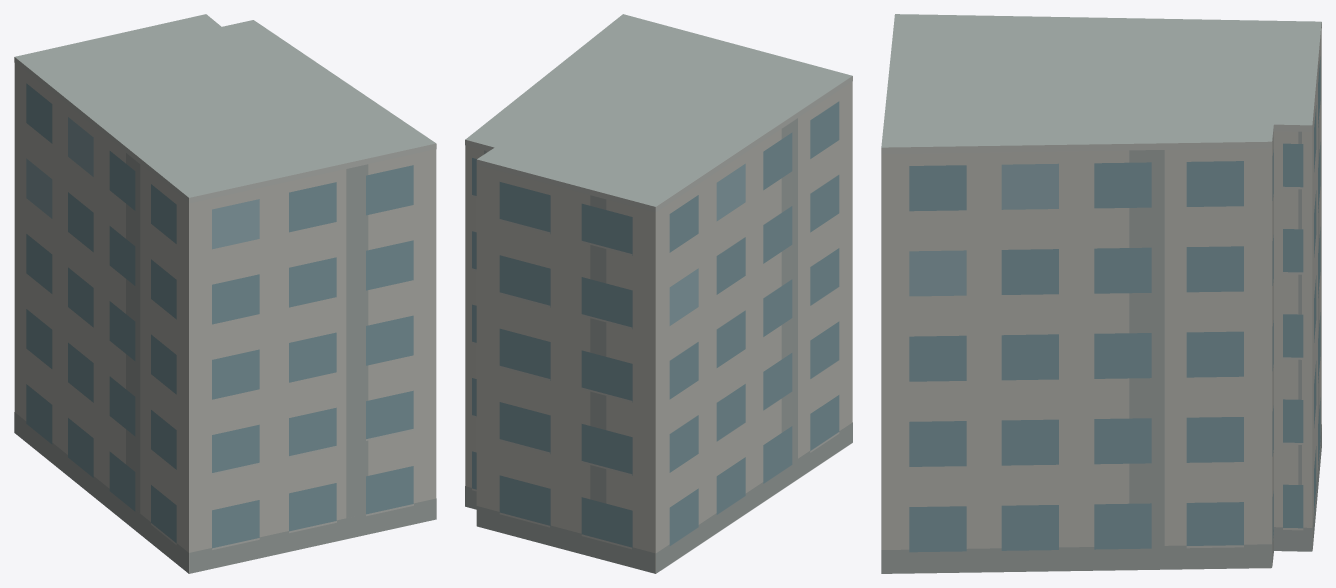
The model's file is survey-upis-32830152.glb.
3 views of the same model, side by side, from view 1: azimuth 30°, elevation 25°; view 2: azimuth 150°, elevation 25°; view 3: azimuth 270°, elevation 25° (orthographic). The views are drawn at different scales.
Parts seen in each view (by area): view 1: survey-upis-32830152.tmp; view 2: survey-upis-32830152.tmp; view 3: survey-upis-32830152.tmp.
Part boxes in pixels (x1,y1,x2,y2): survey-upis-32830152.tmp: [14, 14, 436, 573]; survey-upis-32830152.tmp: [465, 14, 852, 573]; survey-upis-32830152.tmp: [881, 14, 1321, 573].
Size of the model in its own units: 10.69 by 15.9 by 14.9.
